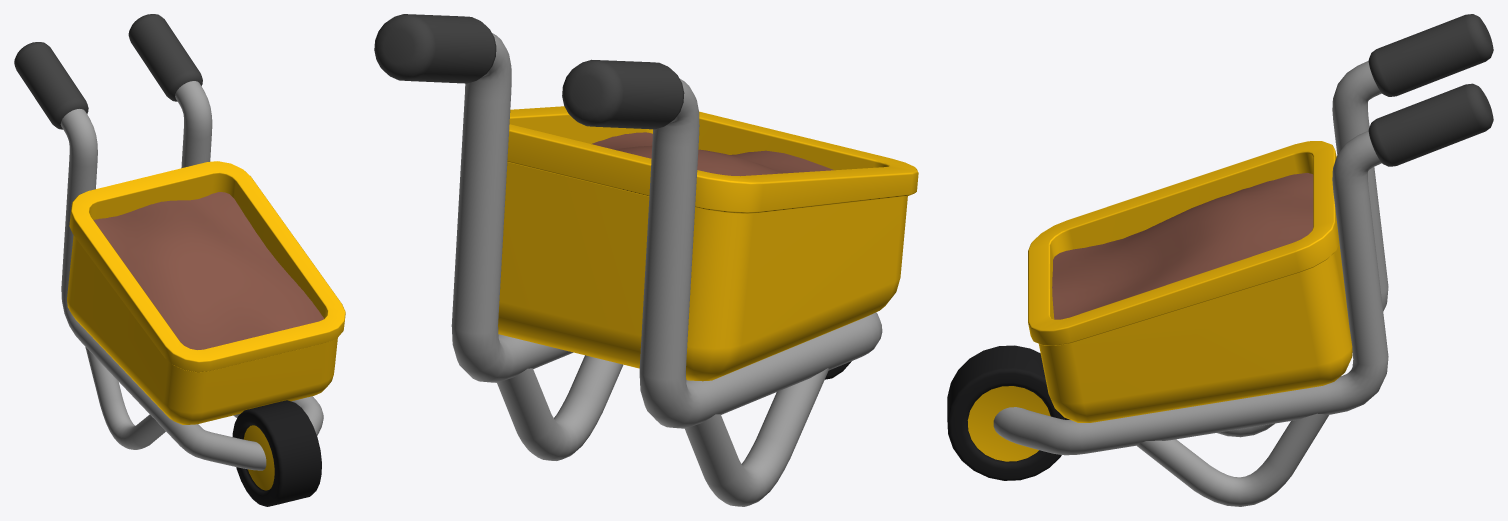
The model's file is Farm_19_Wheelbarrow_with_Ground_1.glb.
The picture shows the model from 3 angles, left to right: view 1: azimuth 30°, elevation 25°; view 2: azimuth 150°, elevation 25°; view 3: azimuth 270°, elevation 25°; orthographic projection. The views are drawn at different scales.
Parts seen in each view (by area): view 1: Farm_19_Wheelbarrow_with_Ground_1; view 2: Farm_19_Wheelbarrow_with_Ground_1; view 3: Farm_19_Wheelbarrow_with_Ground_1.
Part boxes in pixels (x1,y1,x2,y2): Farm_19_Wheelbarrow_with_Ground_1: [14, 14, 345, 506]; Farm_19_Wheelbarrow_with_Ground_1: [374, 14, 918, 506]; Farm_19_Wheelbarrow_with_Ground_1: [947, 14, 1493, 506].
Size of the model in its own units: 0.6517 by 1.18 by 1.4.
1 material, 1 textured.
